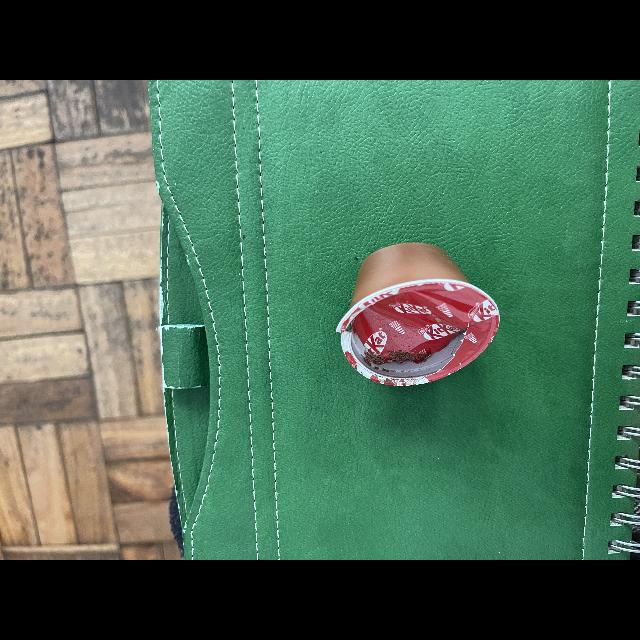damaged_capsule: (330, 232, 514, 406)
